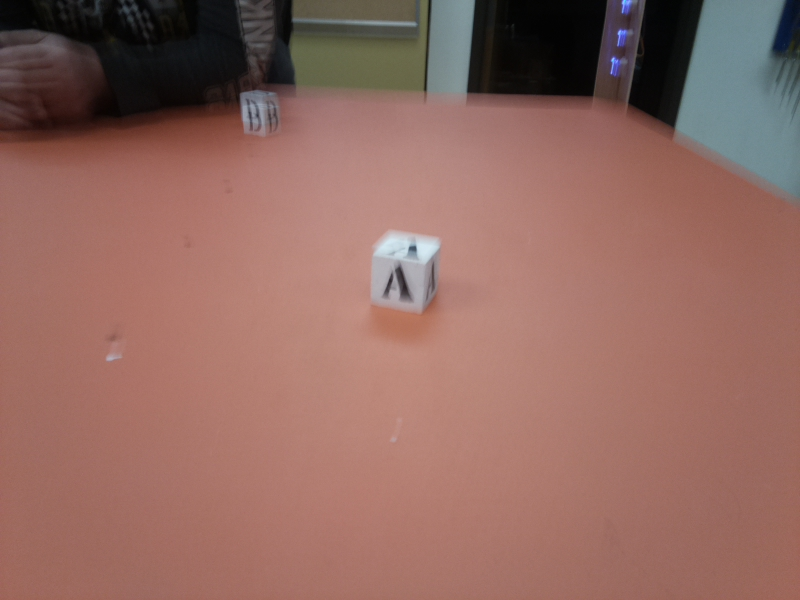blockA: (371, 227, 438, 316)
blockD: (239, 92, 280, 137)
corner: (590, 1, 648, 102)
